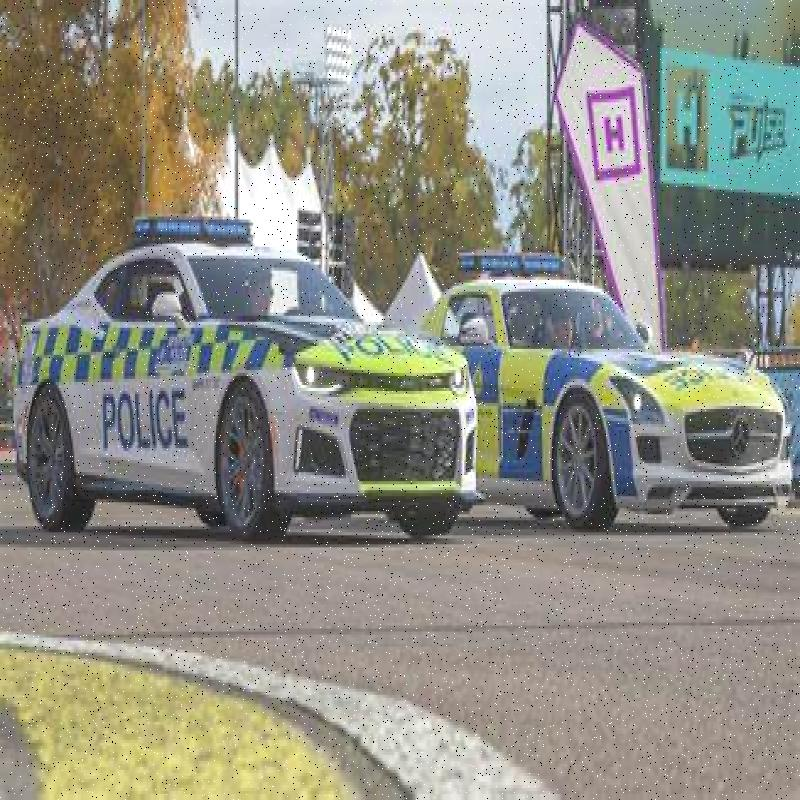AmbulanceSiren: (129, 188, 266, 252), (452, 232, 575, 294)
